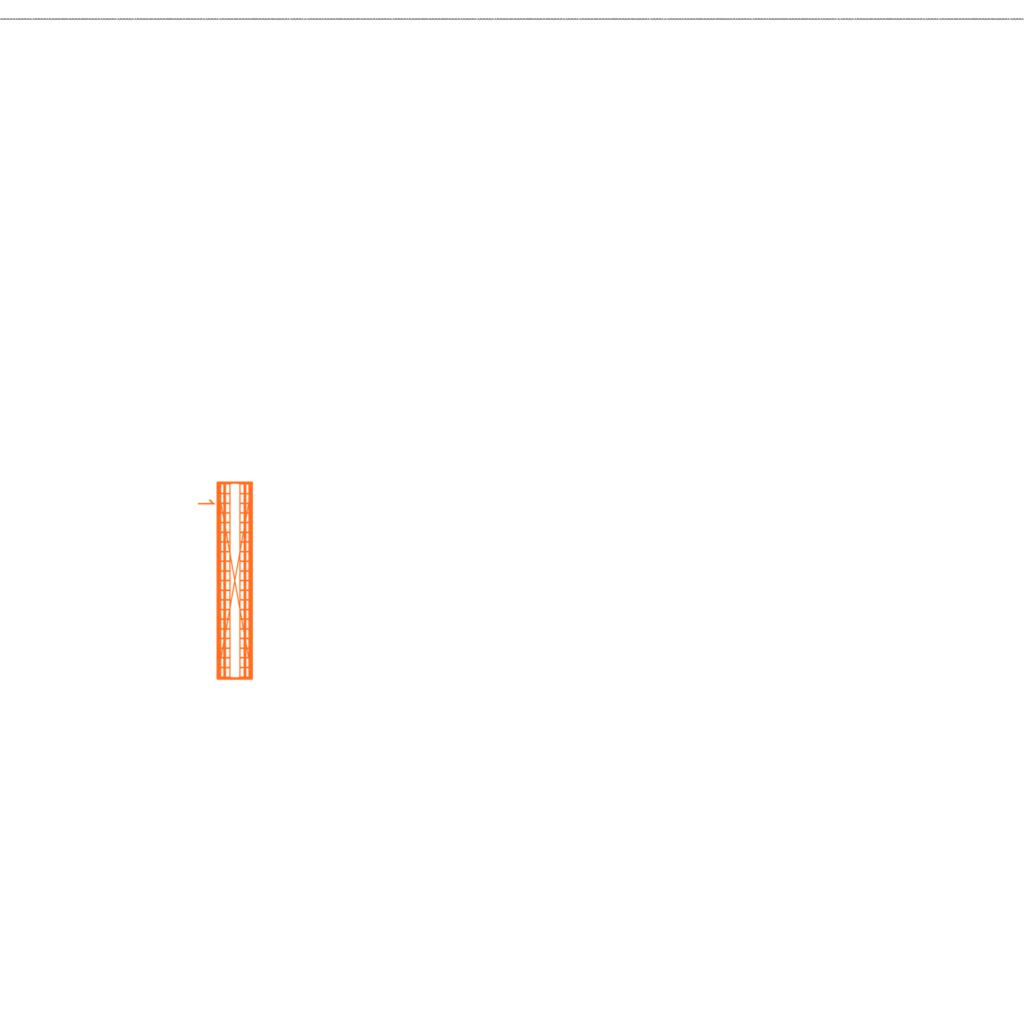Buero_Pendelleuchten_LED: (193, 478, 258, 684)
